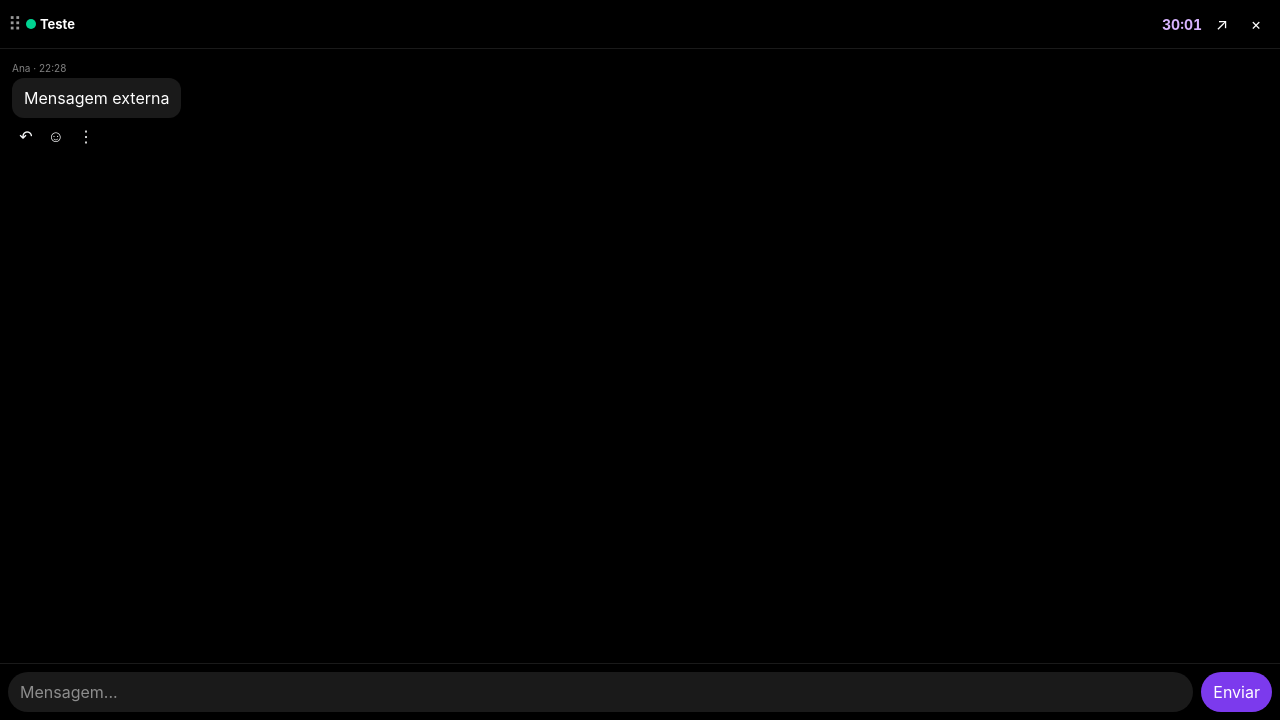
Test case: Mini Cloud leave › keeps message actions available in the narrow external desktop window
Click the button named "Reagir à mensagem": (56, 136) x1=42 y1=122 x2=70 y2=150
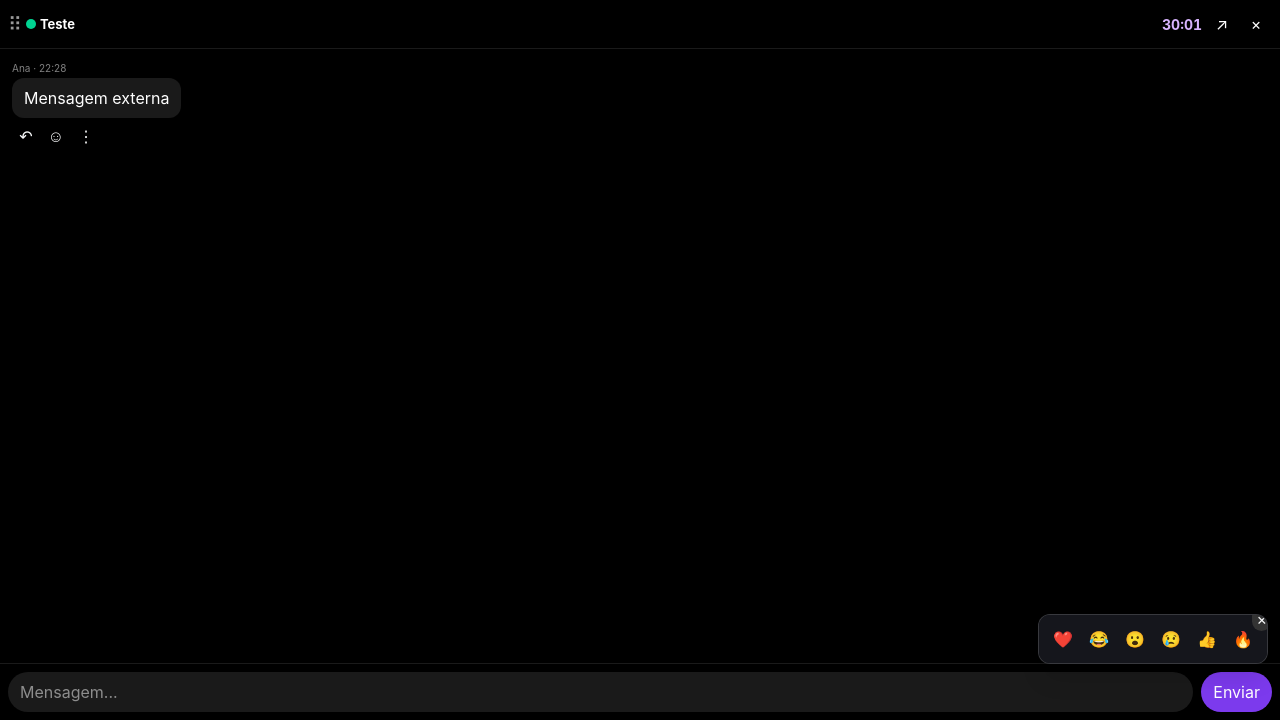
Click the button named "Reagir com 👍": (1207, 639) x1=1191 y1=623 x2=1223 y2=655
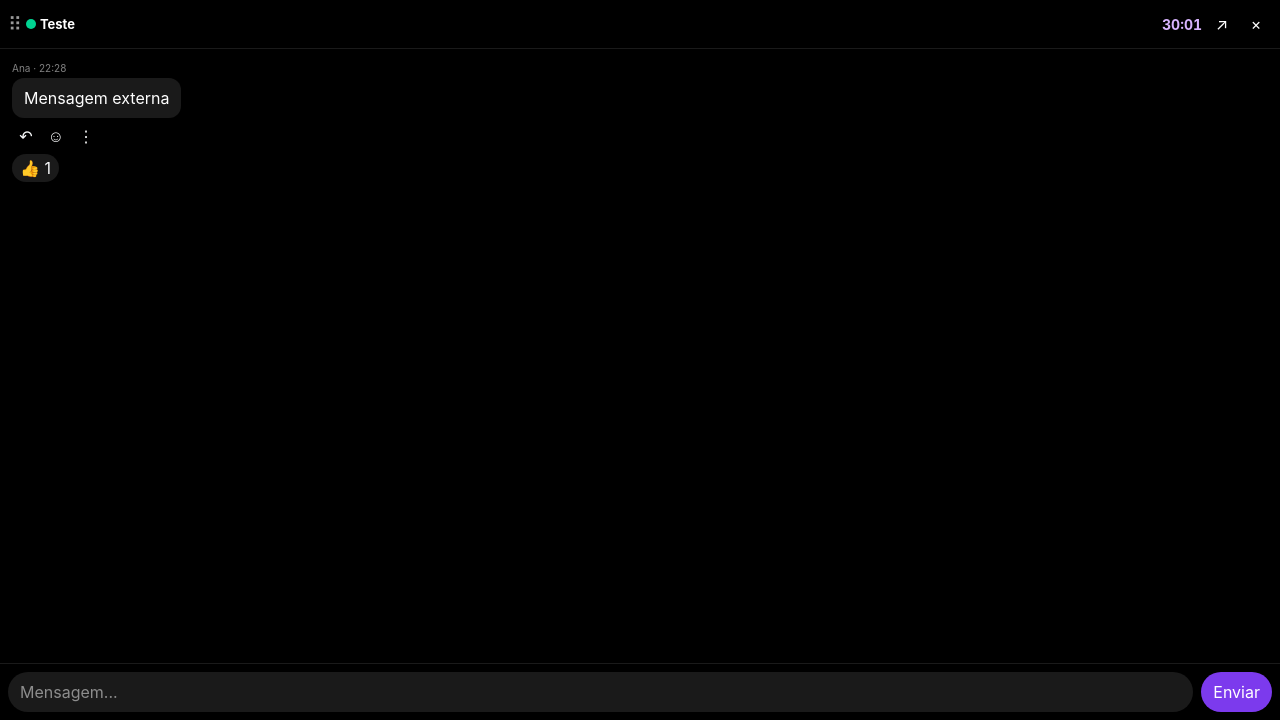
Expected: the button "👍 1" is shown, x1=12 y1=154 x2=59 y2=182
Click the button named "Responder mensagem": (26, 136) x1=12 y1=122 x2=40 y2=150
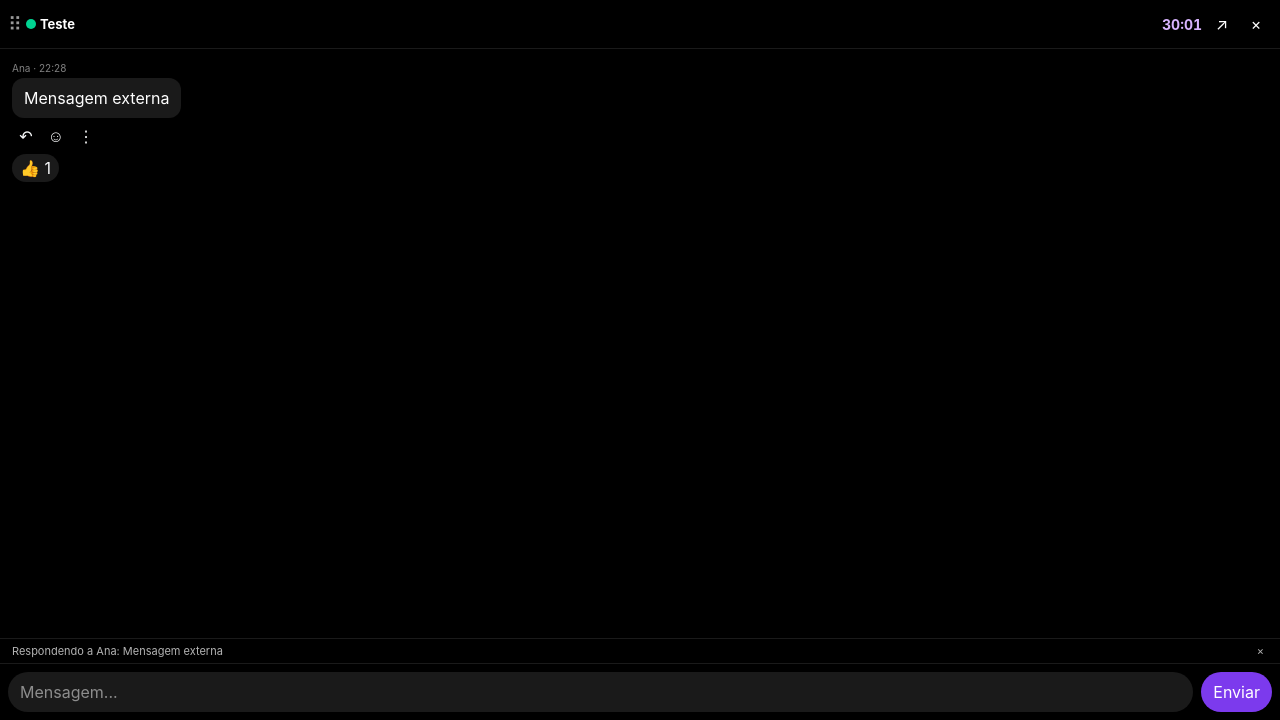
Expected: the text "Respondendo a Ana: Mensagem externa" is shown, x1=12 y1=644 x2=223 y2=658
Click the button named "Mais opções da mensagem": (86, 136) x1=72 y1=122 x2=100 y2=150
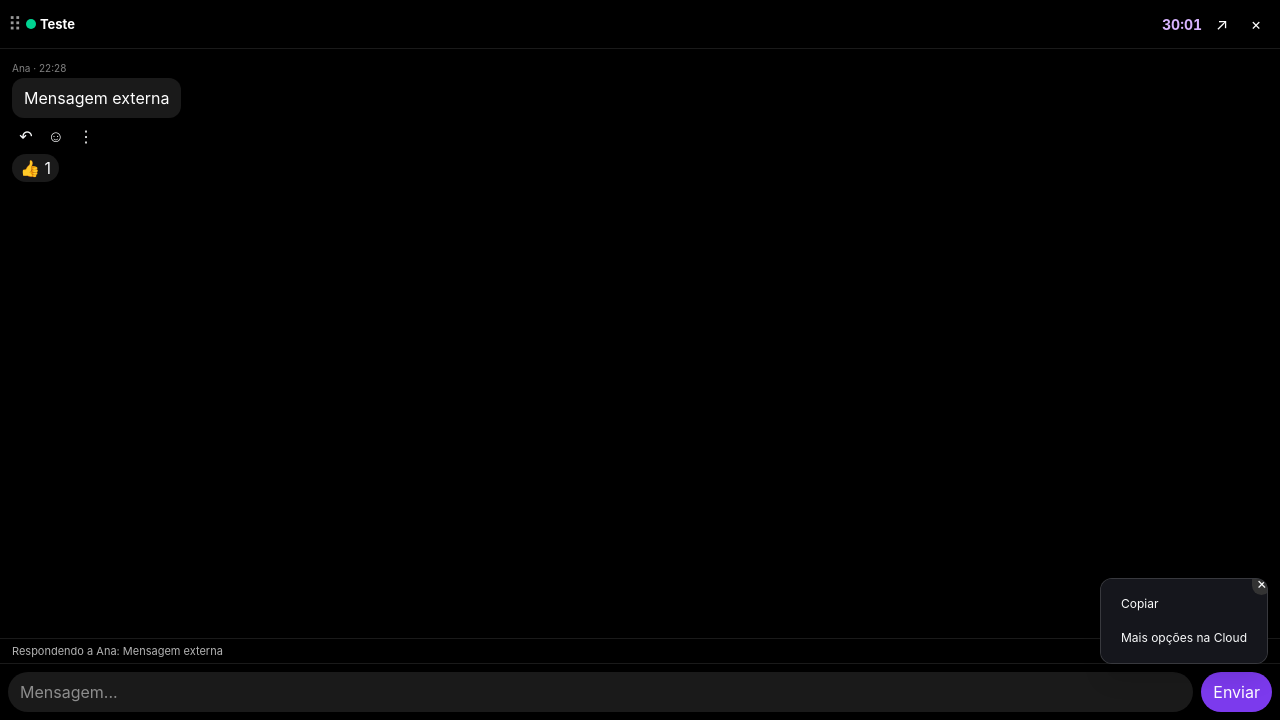
Expected: the element named "Opções da mensagem" is shown, x1=1100 y1=578 x2=1268 y2=664
